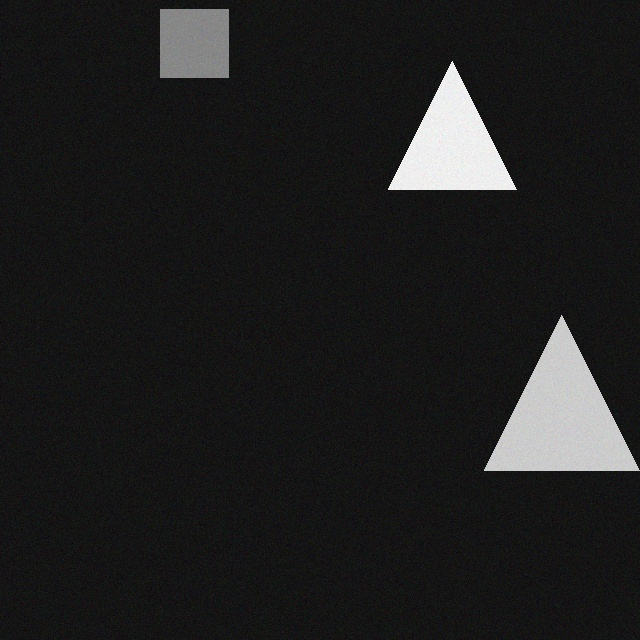square: (154, 9, 222, 77)
triangle: (478, 315, 633, 470), (382, 61, 510, 189)
